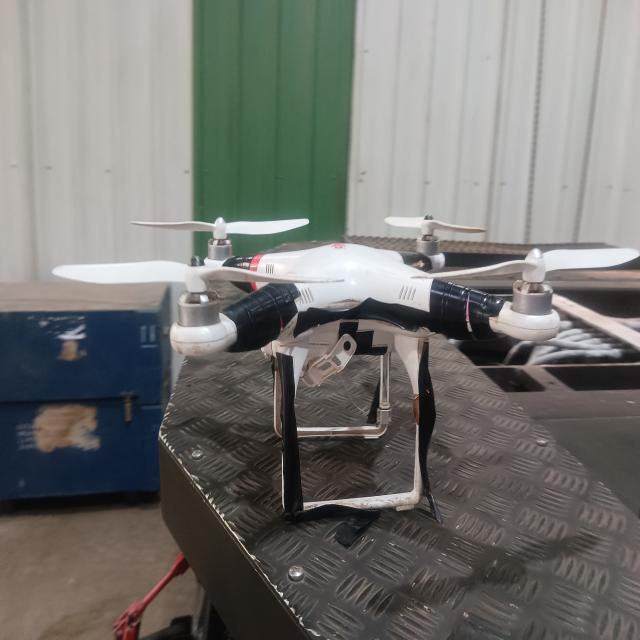drone: (42, 194, 640, 522)
